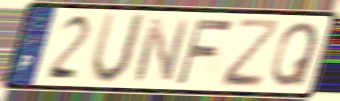2: (40, 14, 95, 81)
F: (174, 17, 237, 86)
N: (130, 16, 192, 84)
Q: (269, 20, 322, 89)
U: (87, 11, 149, 88)
Z: (219, 17, 283, 89)
